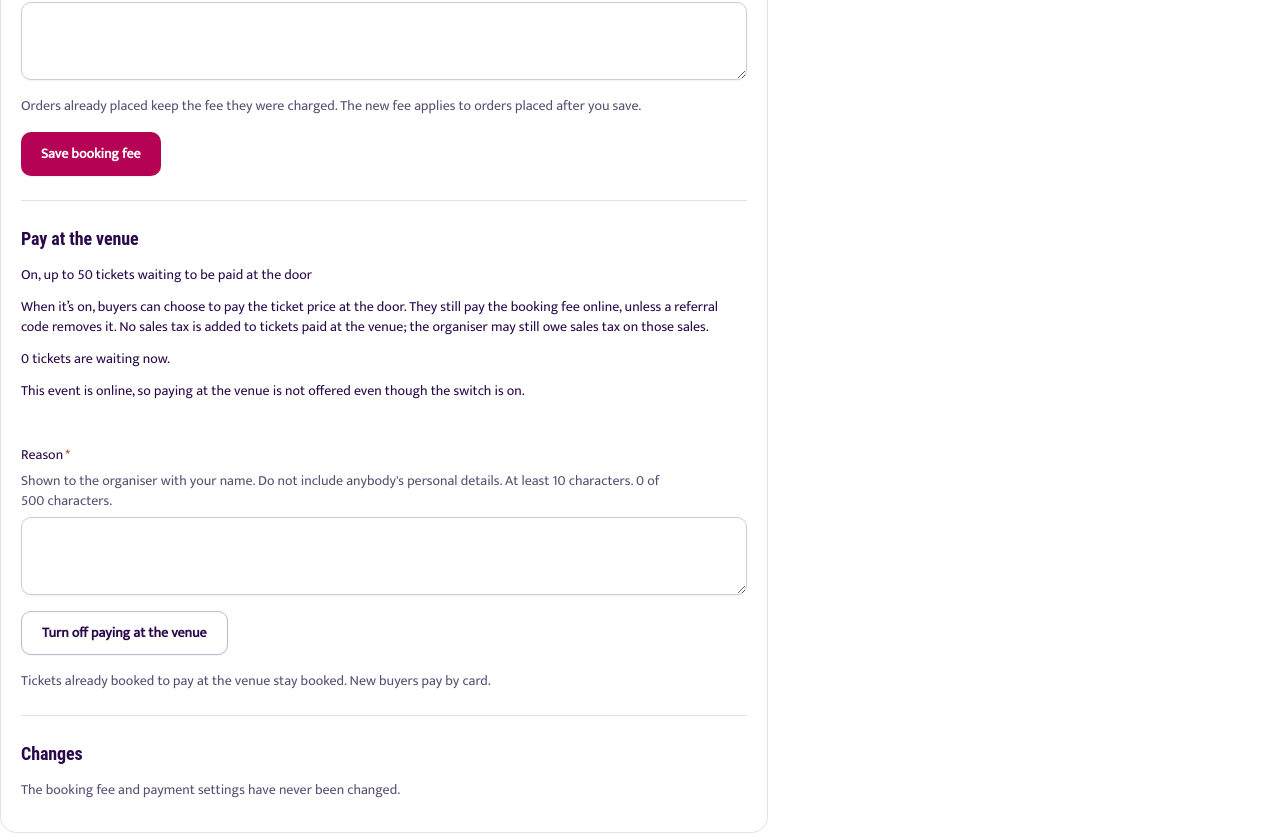
it: paying at the venue › moves focus to the switch’s state when turning off leaves no button (an online event)
The image size is (1280, 833).
(page scrolled)
Type "Agreed with the organiser for this launch." into the text box labelled "Reason*" below "0 tickets are waiting now." at [384, 556], box [21,517,747,595]
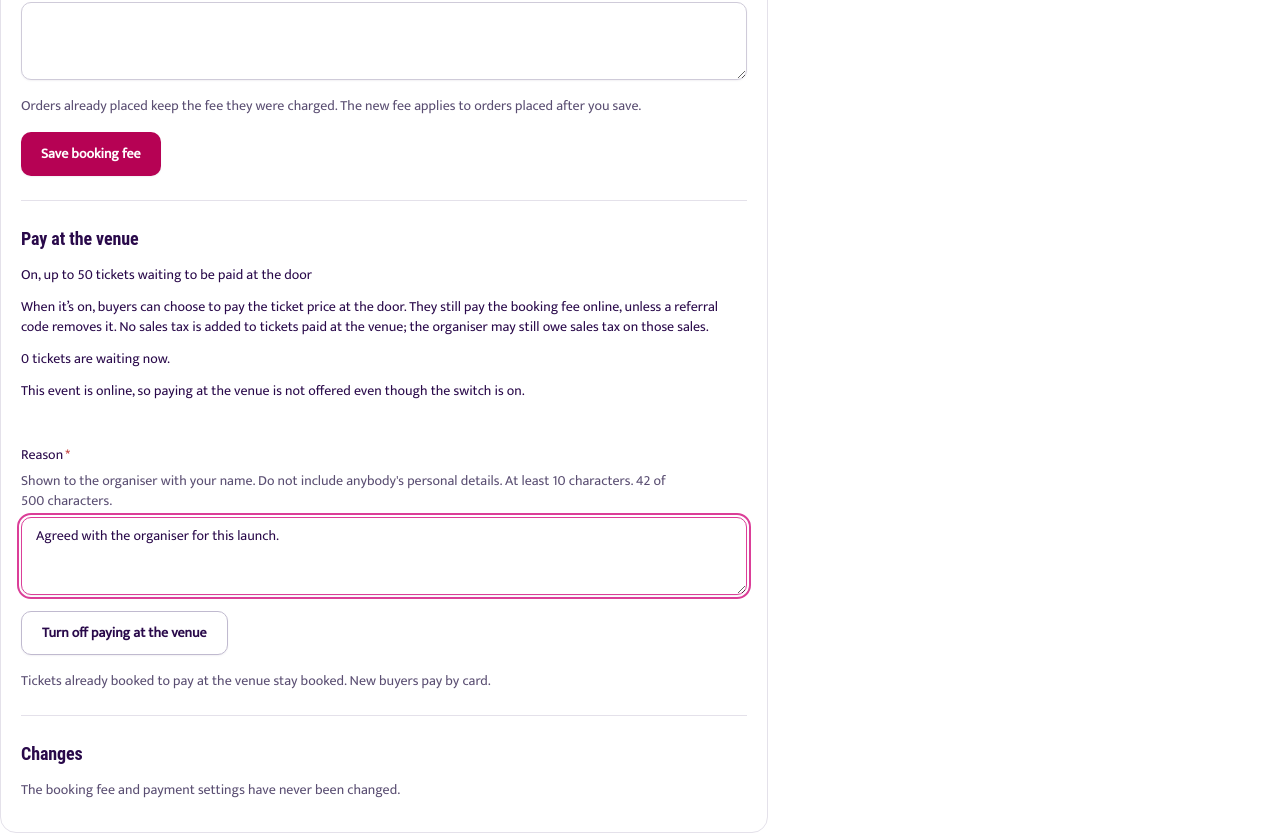
Click the button "Turn off paying at the venue" at [124, 633], box [21,611,228,655]
(page scrolled)
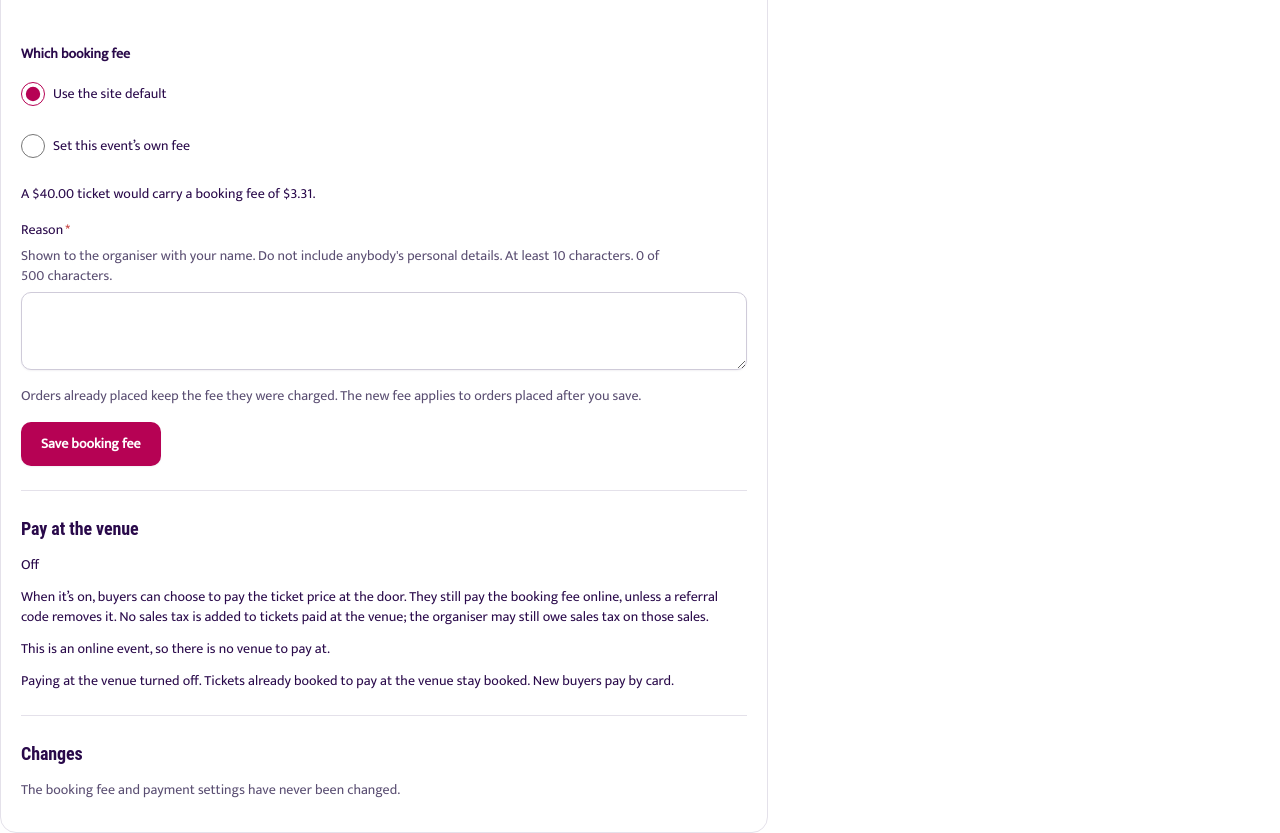
expect the text with test id "venue-status" reads "Off": met, box [21,553,39,576]
